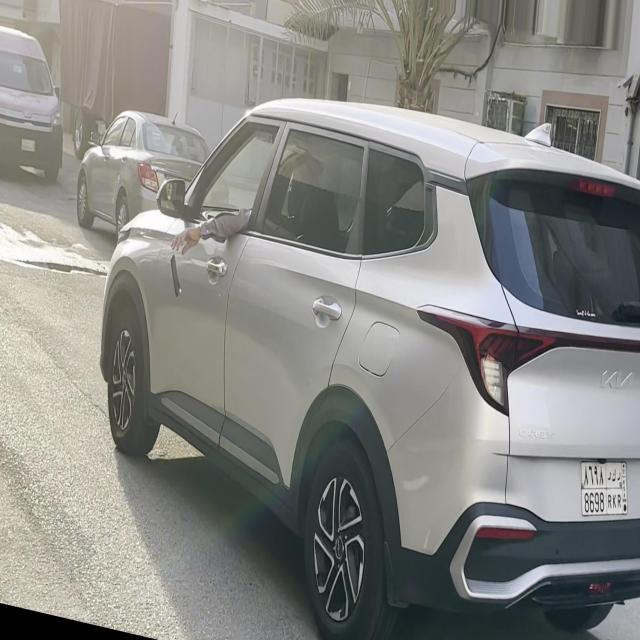Car-plate: (570, 454, 634, 529)
